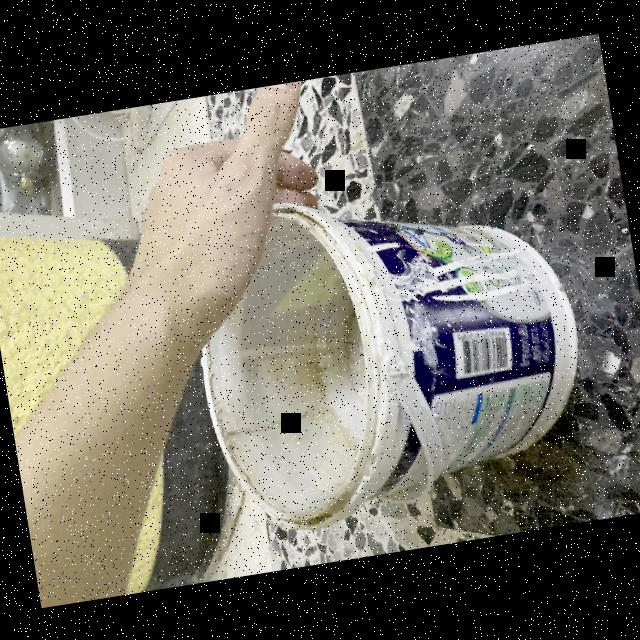paint_bucket: (167, 146, 606, 546)
